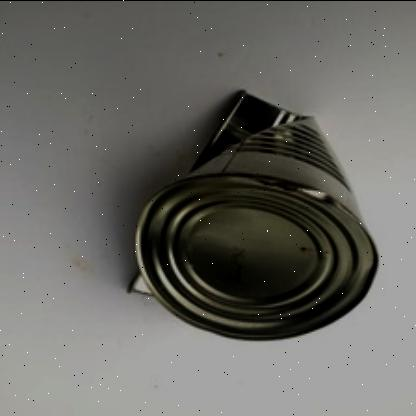Can: (125, 88, 381, 342)
